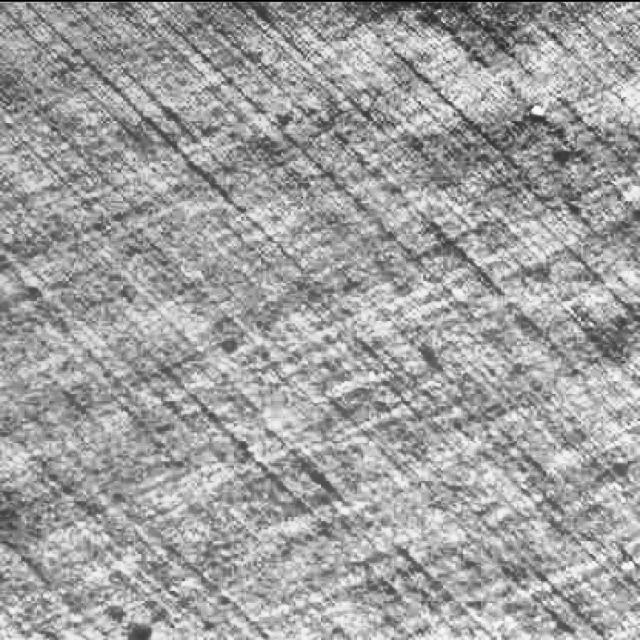hole: (524, 98, 550, 124)
